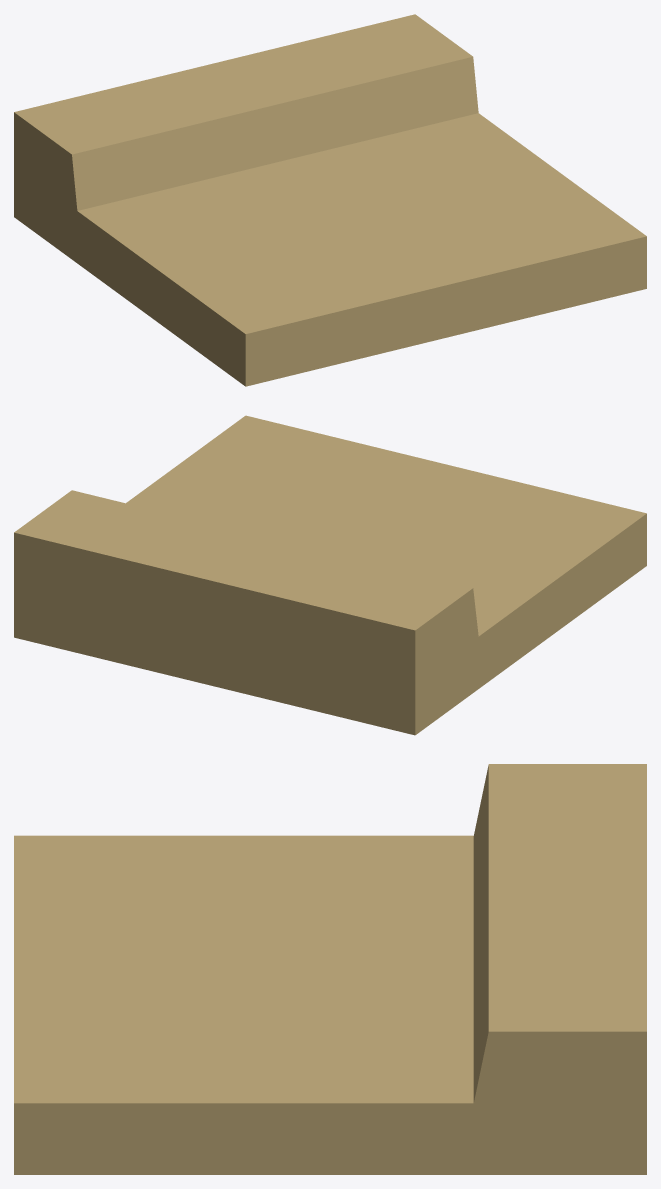
File: Bigpit2.fbx
3 renders of one model, top to bottom at view 1: azimuth 30°, elevation 25°; view 2: azimuth 150°, elevation 25°; view 3: azimuth 270°, elevation 25°, orthographic. The views are drawn at different scales.
Visible parts, largest first — view 1: Cube.023; view 2: Cube.023; view 3: Cube.023.
Boxes of the visible parts, left/top/right/bottom form: Cube.023: left=14, top=14, right=646, bottom=386; Cube.023: left=14, top=415, right=646, bottom=735; Cube.023: left=14, top=764, right=646, bottom=1174.
Size of the model in its own units: 800 by 200 by 800.
